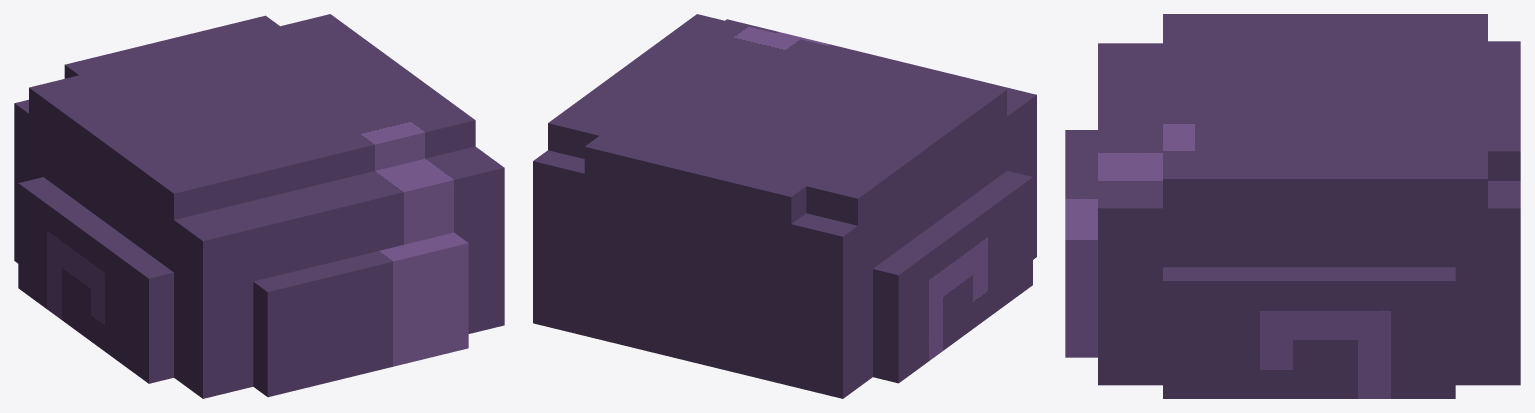
The model's file is Chest_2.fbx.
3 renders of one model, left to right at view 1: azimuth 30°, elevation 25°; view 2: azimuth 150°, elevation 25°; view 3: azimuth 270°, elevation 25°, orthographic. The views are drawn at different scales.
Parts seen in each view (by area): view 1: Chest_2; view 2: Chest_2; view 3: Chest_2.
Boxes of the visible parts, <box> form: Chest_2: <box>14,14,504,398</box>; Chest_2: <box>533,14,1036,398</box>; Chest_2: <box>1065,14,1520,398</box>.
Bounding box in the file's own units: 14 × 7 × 14.
Materials: 1 (1 with a texture image).
